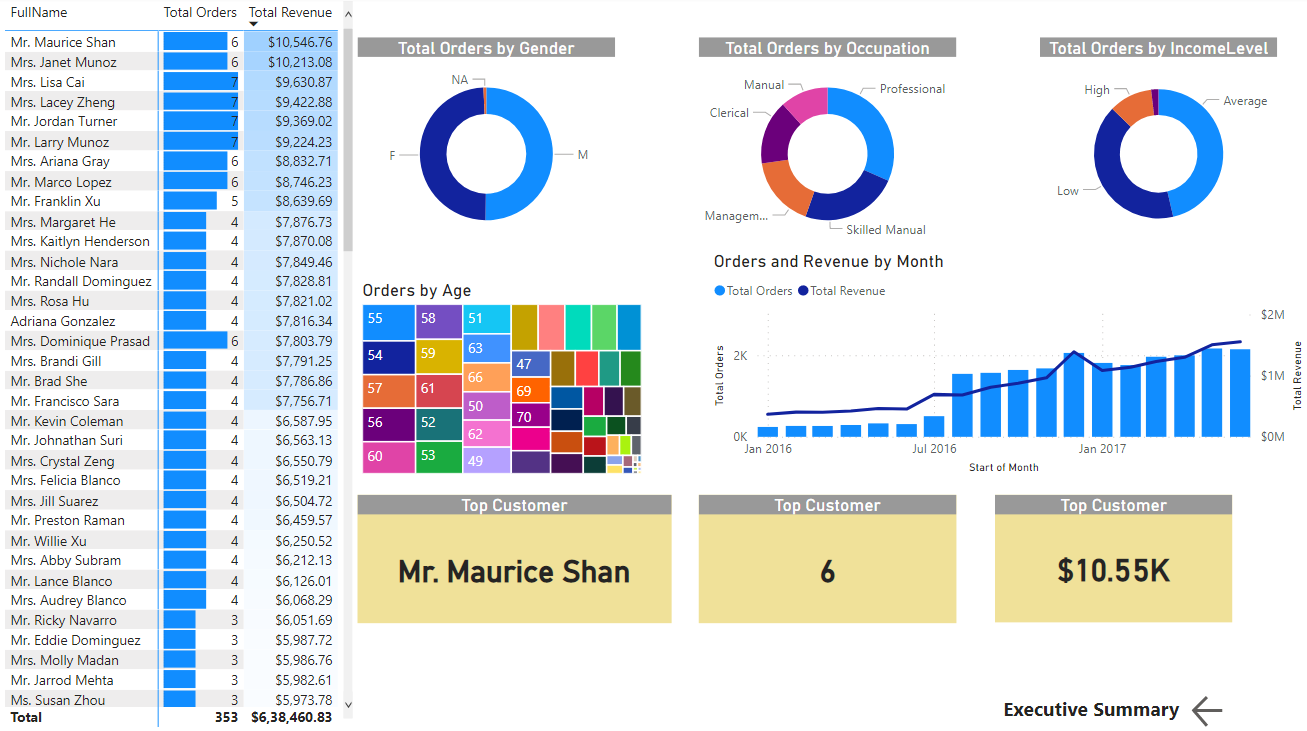

What the dashboard file says about the page in this screenshot:
{"tool":"powerbi","page":{"name":"Customer Detail","canvas":[1280,720],"ordinal":2},"visuals":[{"type":"pivotTable","fields":{"Rows":["AW_Customers_Lookup.FullName"],"Values":["AW_Sales.Total Orders","AW_Sales.Total Revenue"]},"box":[0,0,349.6,720],"z":0},{"type":"donutChart","fields":{"Y":["AW_Sales.Total Orders"],"Category":["AW_Customers_Lookup.Gender"]},"box":[349.6,40.3,251.8,209],"z":1000},{"type":"donutChart","fields":{"Y":["AW_Sales.Total Orders"],"Category":["AW_Customers_Lookup.Occupation"]},"box":[683.3,40.3,251.8,209],"z":2000},{"type":"donutChart","fields":{"Y":["AW_Sales.Total Orders"],"Category":["AW_Customers_Lookup.IncomeLevel"]},"box":[1017,40.3,232.3,209],"z":3000},{"type":"lineClusteredColumnComboChart","title":"Orders and Revenue by Month","fields":{"Y":["AW_Sales.Total Orders"],"Y2":["AW_Sales.Total Revenue"],"Category":["AW_Calendar_Lookup.Start of Month"]},"box":[693.1,249.4,586.8,222.5],"z":4000},{"type":"treemap","title":"Orders by Age","fields":{"Values":["AW_Sales.Total Orders"],"Group":["AW_Customers_Lookup.CurrentAge"]},"box":[349.6,277.5,282.4,194.4],"z":5000},{"type":"card","title":"Top Customer","fields":{"Values":["Min(AW_Customers_Lookup.FullName)"]},"box":[349.6,487.7,306.8,125.9],"z":6000},{"type":"textbox","box":[960.8,679.7,212.7,40.3],"z":7000},{"type":"actionButton","box":[1161.3,679.7,44,40.3],"z":8000},{"type":"card","title":"Top Customer","fields":{"Values":["AW_Sales.Total Orders"]},"box":[683.3,487.7,251.8,125.9],"z":9000},{"type":"card","title":"Top Customer","fields":{"Values":["AW_Sales.Total Revenue"]},"box":[973,487.7,232.3,124.7],"z":10000}]}

Visuals, with their boxes in screenshot pixels (x1, y1, x2, y2), scaled from the page's 1280x720 canvas onto the 1307x731 screenshot:
pivotTable - AW_Customers_Lookup.FullName x AW_Sales.Total Orders: box(0, 0, 357, 730)
donutChart - AW_Sales.Total Orders x AW_Customers_Lookup.Gender: box(357, 41, 614, 253)
donutChart - AW_Sales.Total Orders x AW_Customers_Lookup.Occupation: box(698, 41, 955, 253)
donutChart - AW_Sales.Total Orders x AW_Customers_Lookup.IncomeLevel: box(1038, 41, 1276, 253)
"Orders and Revenue by Month" lineClusteredColumnComboChart: box(708, 253, 1306, 479)
"Orders by Age" treemap: box(357, 282, 645, 479)
"Top Customer" card: box(357, 495, 670, 623)
textbox: box(981, 690, 1198, 730)
actionButton: box(1186, 690, 1231, 730)
"Top Customer" card: box(698, 495, 955, 623)
"Top Customer" card: box(994, 495, 1231, 622)
